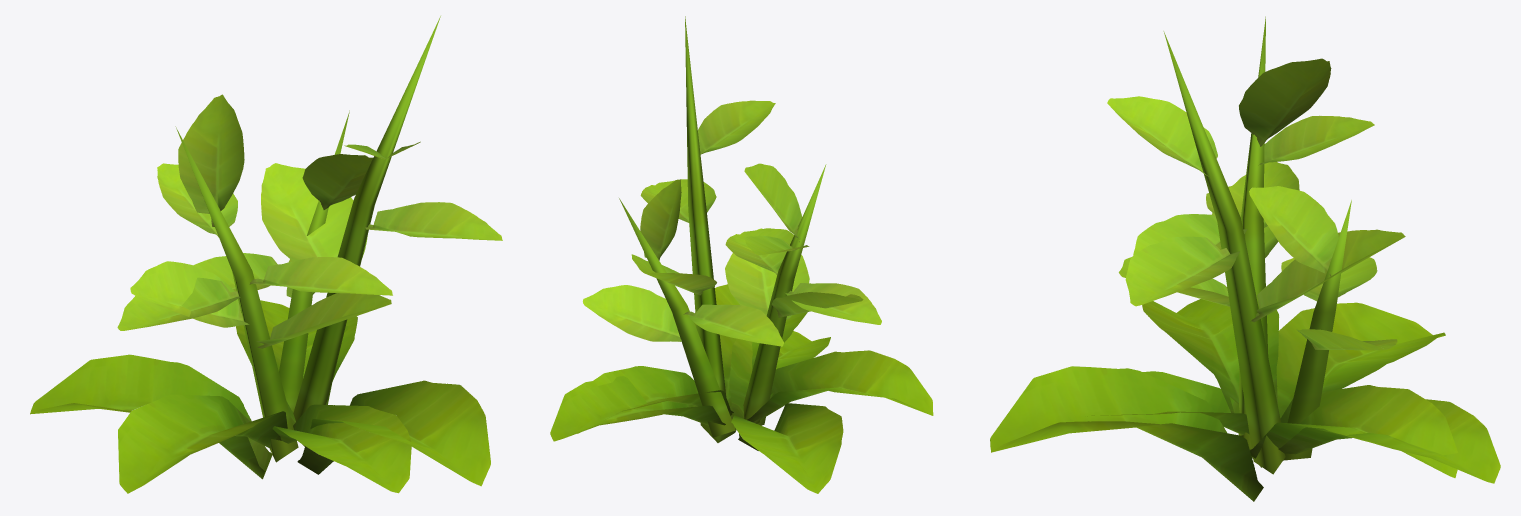
File: SM_Vegetation_09.fbx
3 views of the same model, side by side, from view 1: azimuth 30°, elevation 25°; view 2: azimuth 150°, elevation 25°; view 3: azimuth 270°, elevation 25° (orthographic). The views are drawn at different scales.
Parts seen in each view (by area): view 1: SM_Vegetation_09_LOD0; view 2: SM_Vegetation_09_LOD0; view 3: SM_Vegetation_09_LOD0.
Part boxes in pixels (bbox=[...]): SM_Vegetation_09_LOD0: bbox=[30, 16, 502, 493]; SM_Vegetation_09_LOD0: bbox=[550, 16, 933, 493]; SM_Vegetation_09_LOD0: bbox=[990, 16, 1500, 501].
Size of what is drawn, in the model's own units: 1.28 by 1.54 by 1.44.
